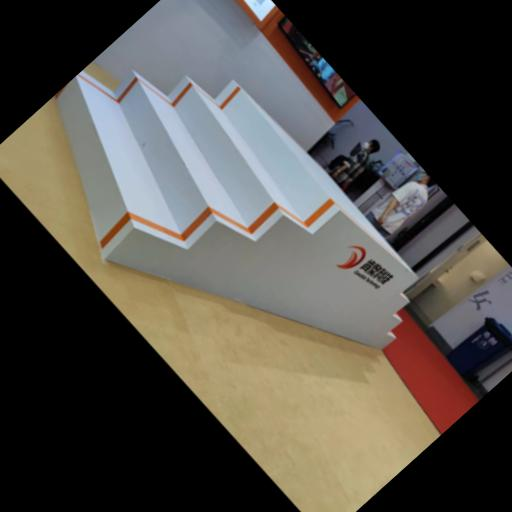stairs: (55, 72, 414, 348)
